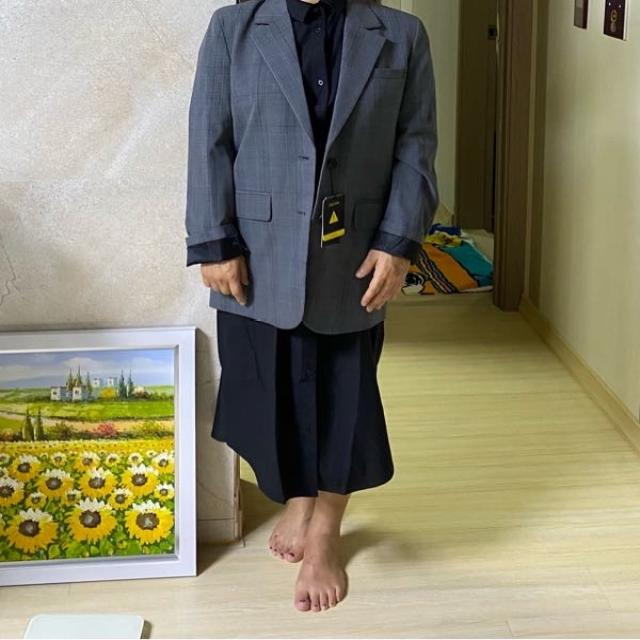blazer: (182, 0, 437, 332)
skirt: (212, 306, 395, 499)
